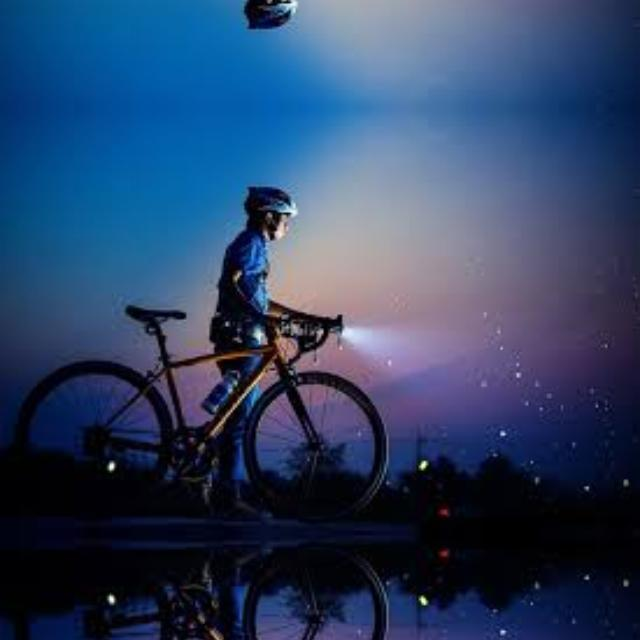obstacle: (13, 275, 399, 519), (13, 547, 399, 640)
